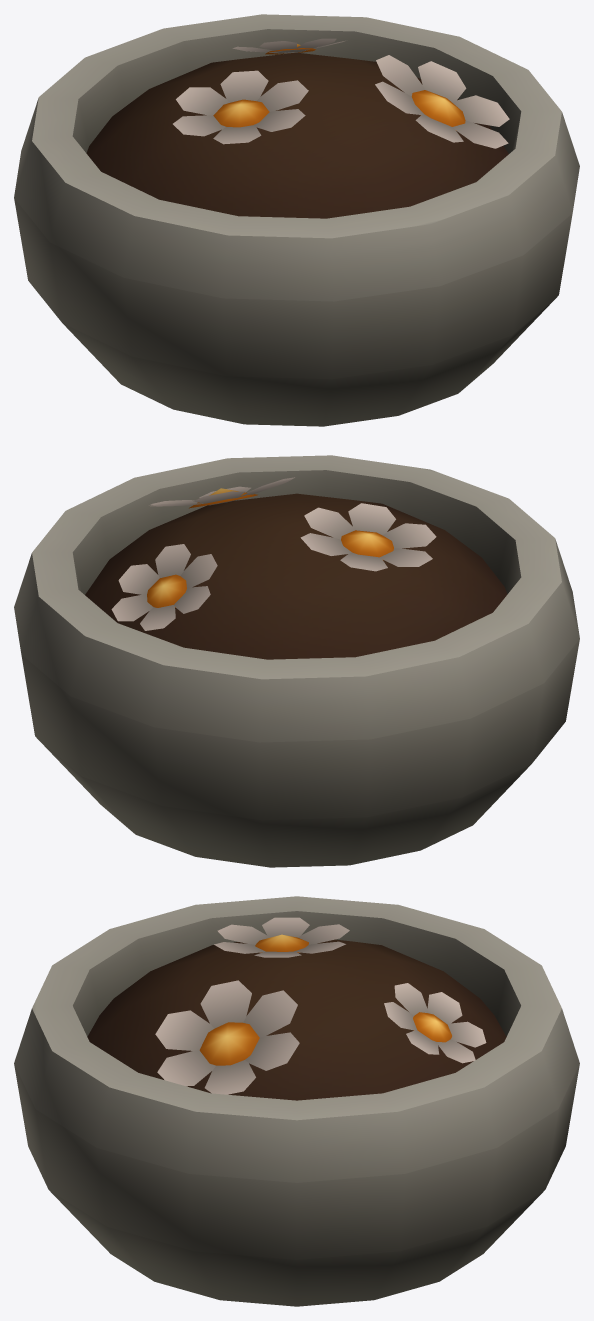
The model's file is tc_plant_pot_2a.glb.
3 renders of one model, top to bottom at view 1: azimuth 30°, elevation 25°; view 2: azimuth 150°, elevation 25°; view 3: azimuth 270°, elevation 25°, orthographic.
Visible parts, largest first — view 1: Plant_Pot_2A; view 2: Plant_Pot_2A; view 3: Plant_Pot_2A.
Boxes of the visible parts, <box> form: Plant_Pot_2A: <box>14,14,579,426</box>; Plant_Pot_2A: <box>14,455,579,867</box>; Plant_Pot_2A: <box>14,896,579,1306</box>.
Size of the model in its own units: 2.01 by 1.04 by 2.01.
1 material, 1 textured.
